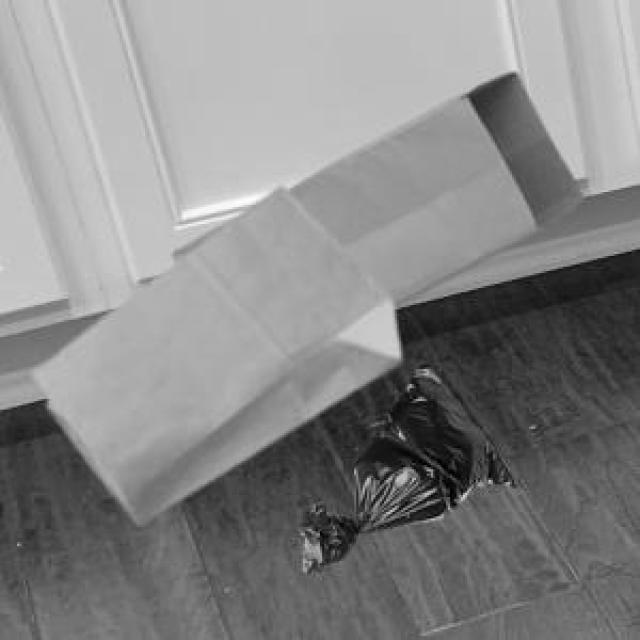miscellaneous trash: (294, 348, 512, 570)
paper: (30, 184, 397, 518), (169, 68, 578, 305)
